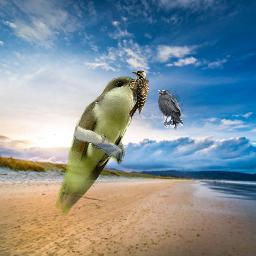Crow: (158, 90, 183, 130)
Cuckoo: (54, 76, 149, 215)
Woodpecker: (126, 69, 149, 121)
